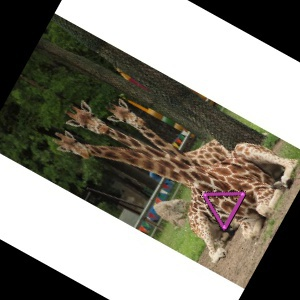triangle: (200, 189, 247, 233)
